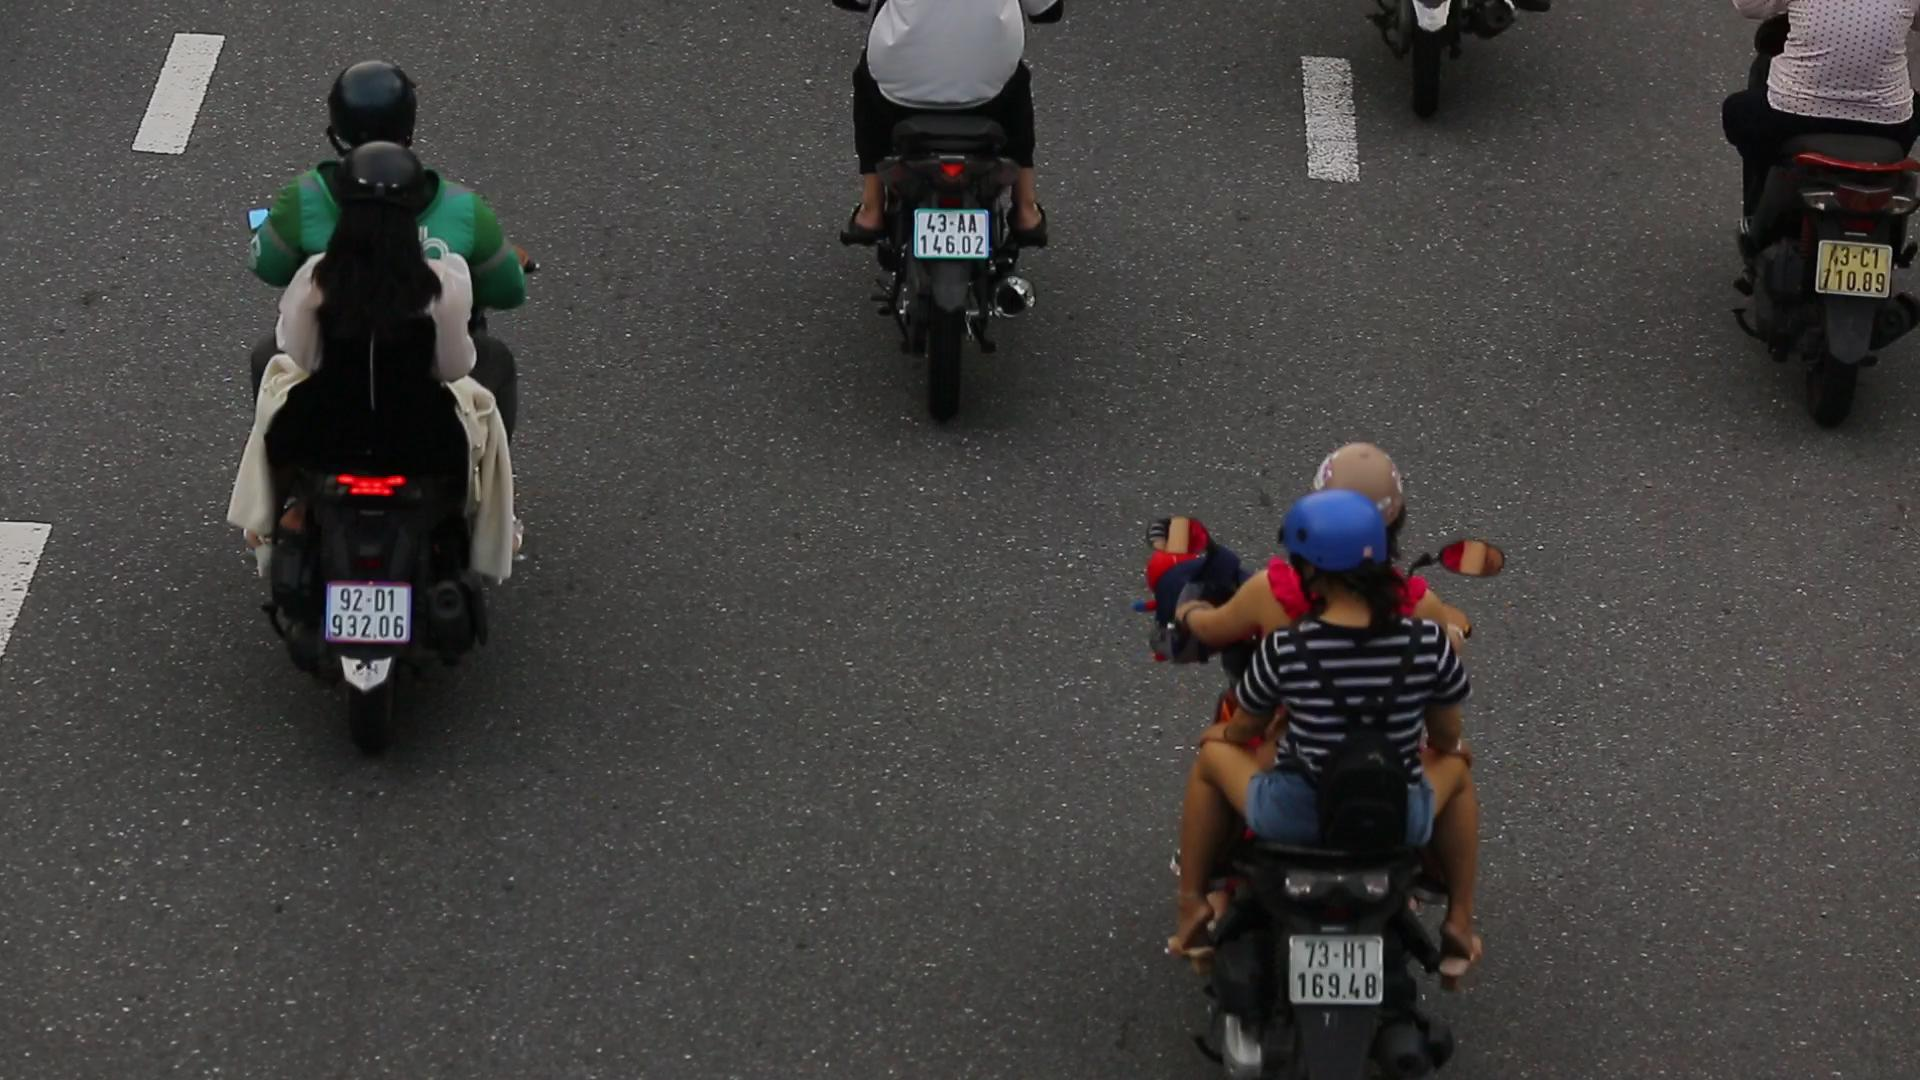motobike: (1138, 436, 1499, 1080), (227, 62, 554, 715)
